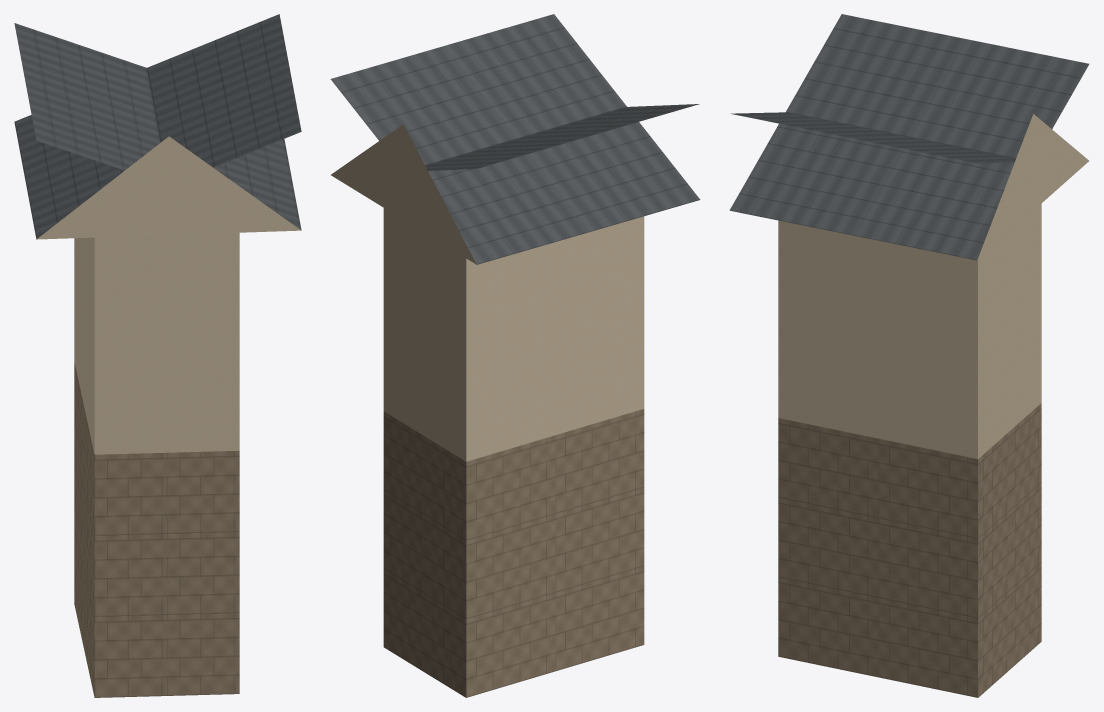
File: bld_c17_23_438.gltf
3 views of the same model, side by side, from view 1: azimuth 30°, elevation 25°; view 2: azimuth 150°, elevation 25°; view 3: azimuth 270°, elevation 25° (orthographic). The views are drawn at different scales.
Visible parts, largest first — view 1: bld_c17_23_438; view 2: bld_c17_23_438; view 3: bld_c17_23_438.
Part boxes in pixels (x1,y1,x2,y2): bld_c17_23_438: [14, 14, 301, 697]; bld_c17_23_438: [330, 14, 700, 697]; bld_c17_23_438: [729, 14, 1089, 697].
Size of the model in its own units: 6.77 by 11.85 by 6.9.
4 materials, 4 textured.
